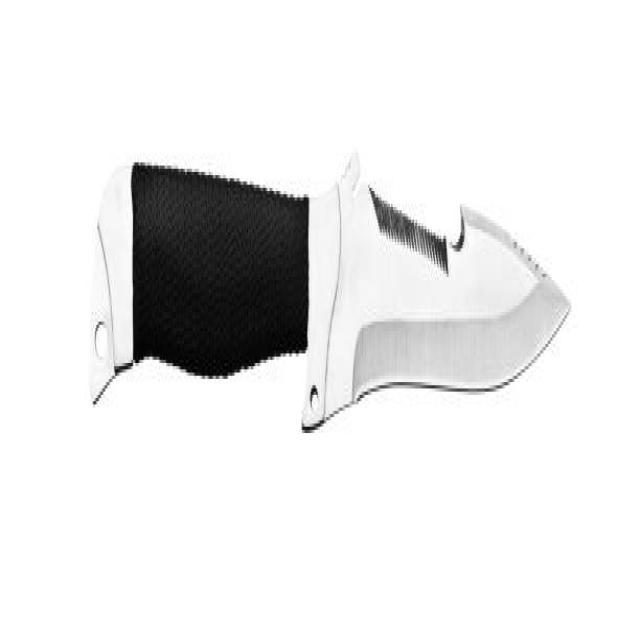knife: (84, 127, 574, 422)
